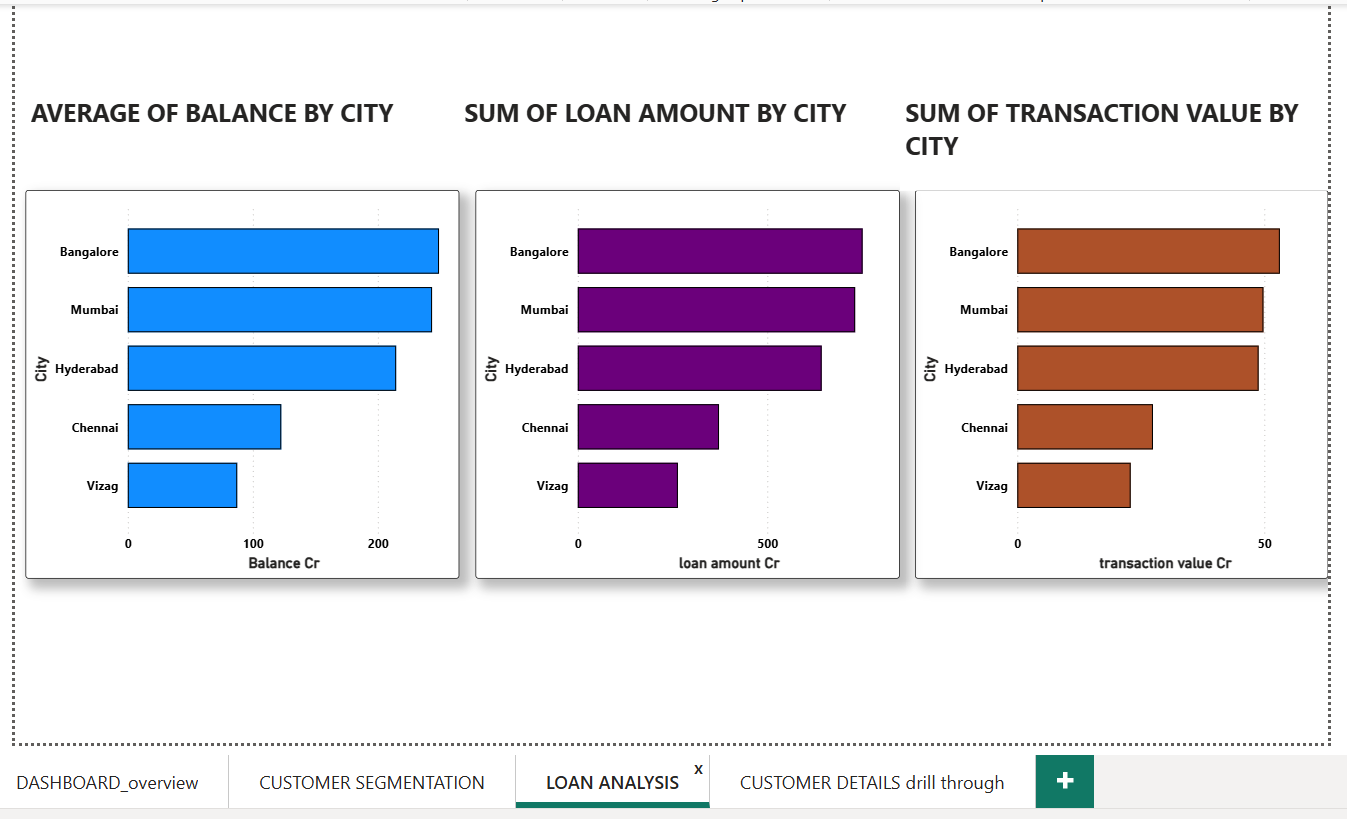

What the dashboard file says about the page in this screenshot:
{"tool":"powerbi","page":{"name":"LOAN ANALYSIS","canvas":[1280,720],"ordinal":2},"visuals":[{"type":"clusteredBarChart","fields":{"Category":["banking_customer_data_clean.City"],"Y":["banking_customer_data_clean.Balance Cr"]},"box":[10.6,181.7,422.5,378.6],"z":0},{"type":"clusteredBarChart","fields":{"Category":["banking_customer_data_clean.City"],"Y":["banking_customer_data_clean.transaction value Cr"]},"box":[876.7,181.7,402.8,378.6],"z":1000},{"type":"clusteredBarChart","fields":{"Category":["banking_customer_data_clean.City"],"Y":["banking_customer_data_clean.loan amount Cr"]},"box":[448.2,181.7,413.4,378.6],"z":2000},{"type":"textbox","box":[10.6,83.3,477,87.8],"z":3000},{"type":"textbox","box":[433.1,83.3,392.2,87.8],"z":4000},{"type":"textbox","box":[861.6,83.3,417.9,98.4],"z":5000}]}

Visuals, with their boxes on the page's 1280x720 design canvas (x1, y1, x2, y2). These are canvas units, not pixel positions in the 1347x819 screenshot, which may show the page scaled, cropped or inside an application window:
clusteredBarChart - banking_customer_data_clean.City x banking_customer_data_clean.Balance Cr: {"left": 11, "top": 182, "right": 433, "bottom": 560}
clusteredBarChart - banking_customer_data_clean.City x banking_customer_data_clean.transaction value Cr: {"left": 877, "top": 182, "right": 1280, "bottom": 560}
clusteredBarChart - banking_customer_data_clean.City x banking_customer_data_clean.loan amount Cr: {"left": 448, "top": 182, "right": 862, "bottom": 560}
textbox: {"left": 11, "top": 83, "right": 488, "bottom": 171}
textbox: {"left": 433, "top": 83, "right": 825, "bottom": 171}
textbox: {"left": 862, "top": 83, "right": 1280, "bottom": 182}
